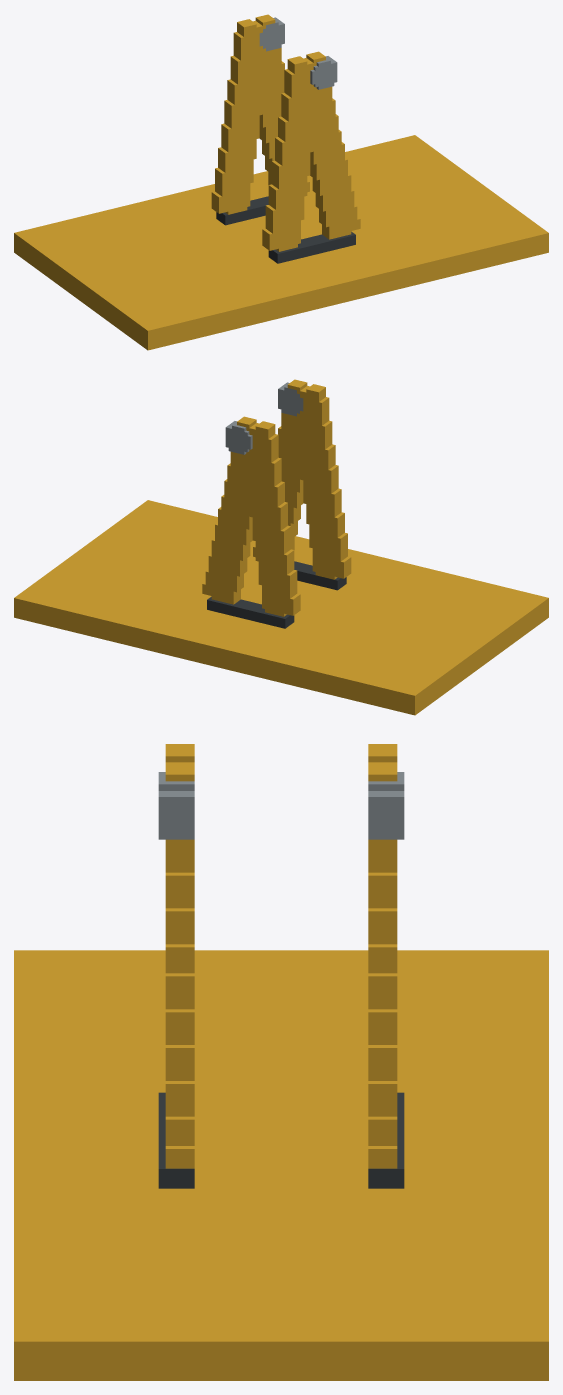
The model's file is mobile_crane_turret.glb.
The picture shows the model from 3 angles, top to bottom: view 1: azimuth 30°, elevation 25°; view 2: azimuth 150°, elevation 25°; view 3: azimuth 270°, elevation 25°; orthographic projection. The views are drawn at different scales.
Parts seen in each view (by area): view 1: body:compound; view 2: body:compound; view 3: body:compound.
Part boxes in pixels (x1,y1,x2,y2): body:compound: (14,14,548,350); body:compound: (14,379,548,715); body:compound: (14,744,548,1380).
Bounding box in the file's own units: 4 × 2.03 × 2.31.
